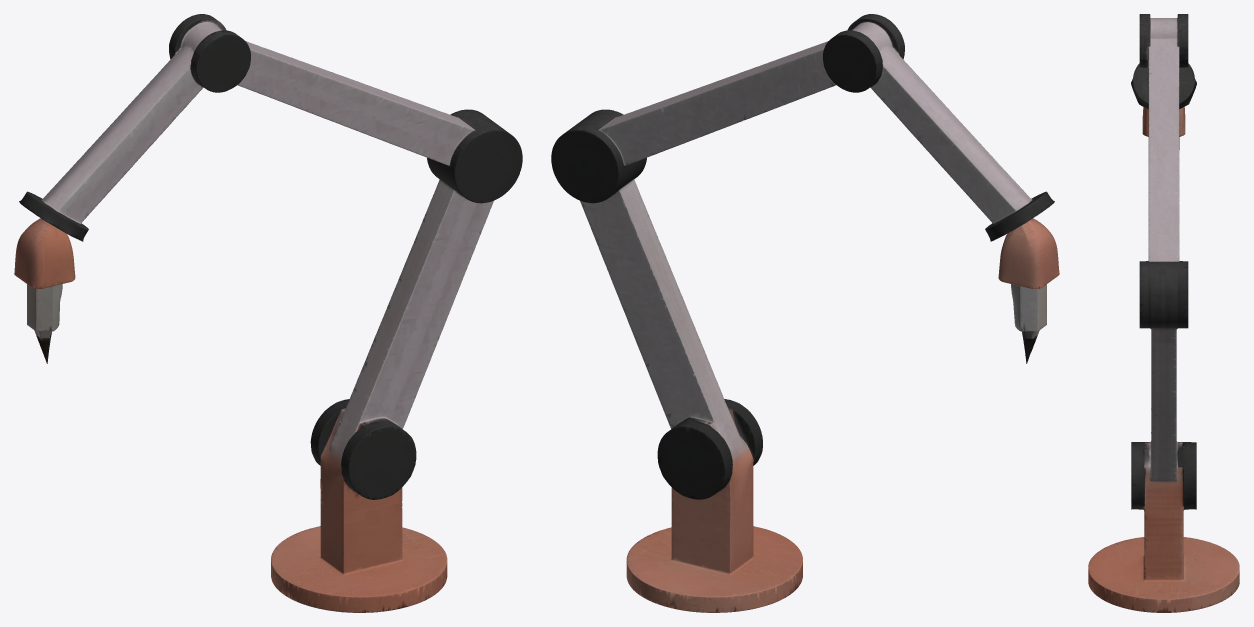
The model's file is accessories_set_2_item_21.glb.
3 views of the same model, side by side, from view 1: azimuth 30°, elevation 25°; view 2: azimuth 150°, elevation 25°; view 3: azimuth 270°, elevation 25° (orthographic). The views are drawn at different scales.
Bounding box in the file's own units: 1.64 × 1.9 × 0.5197.
Materials: 1 (1 with a texture image).
